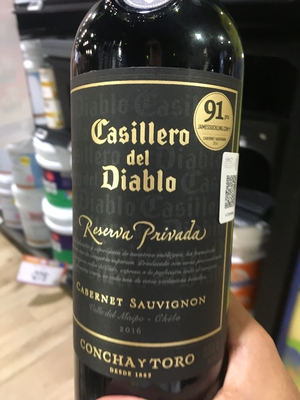casillero del diablo reserva privada cabernet sauvignon: (63, 8, 251, 400)
